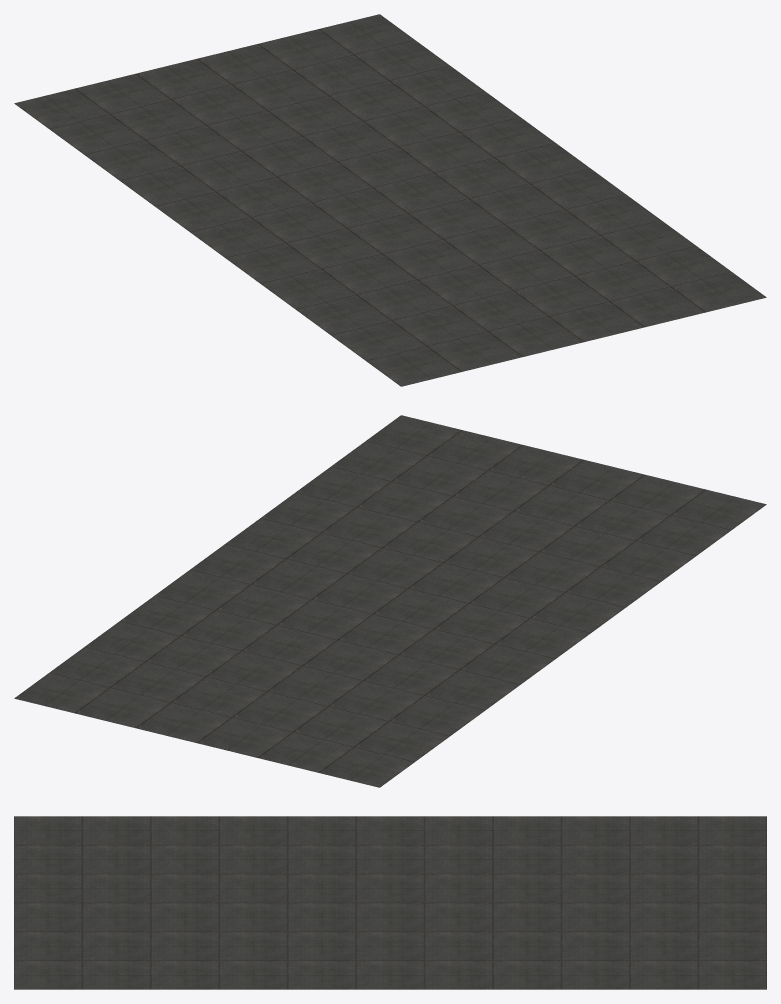
File: Floor.fbx
3 renders of one model, top to bottom at view 1: azimuth 30°, elevation 25°; view 2: azimuth 150°, elevation 25°; view 3: azimuth 270°, elevation 25°, orthographic. The views are drawn at different scales.
Parts seen in each view (by area): view 1: Plane.044, Plane.054, Plane, Plane.014, Plane.018, Plane.020, Plane.029, Plane.039, Plane.057, Plane.059, Plane.066, Plane.069 (+54 smaller); view 2: Plane.046, Plane.052, Plane.008, Plane.015, Plane.026, Plane.029, Plane.033, Plane.035, Plane.063, Plane.064, Plane.069, Plane.072 (+54 smaller); view 3: Plane.028, Plane.030, Plane.036, Plane.038, Plane.044, Plane.046, Plane.052, Plane.054, Plane.060, Plane.062, Plane.068, Plane.070 (+54 smaller).
Part boxes in pixels (<box>): Plane.044: <box>347,213,442,253</box>; Plane.054: <box>338,147,433,187</box>; Plane: <box>366,346,461,386</box>; Plane.014: <box>319,14,414,54</box>; Plane.018: <box>110,99,205,139</box>; Plane.020: <box>85,140,180,180</box>; Plane.029: <box>190,217,285,257</box>; Plane.039: <box>181,151,276,191</box>; Plane.057: <box>575,261,670,301</box>; Plane.059: <box>504,209,599,249</box>; Plane.066: <box>600,220,695,260</box>; Plane.069: <box>495,143,590,183</box>; Plane.046: <box>338,614,433,654</box>; Plane.052: <box>347,548,442,588</box>; Plane.008: <box>319,747,414,787</box>; Plane.015: <box>110,662,205,702</box>; Plane.026: <box>600,541,695,581</box>; Plane.029: <box>495,618,590,658</box>; Plane.033: <box>575,500,670,540</box>; Plane.035: <box>504,552,599,592</box>; Plane.063: <box>181,610,276,650</box>; Plane.064: <box>366,415,461,455</box>; Plane.069: <box>190,544,285,584</box>; Plane.072: <box>85,621,180,661</box>; Plane.028: <box>287,816,356,844</box>; Plane.030: <box>424,816,493,844</box>; Plane.036: <box>287,845,356,873</box>; Plane.038: <box>424,845,493,873</box>; Plane.044: <box>287,874,356,902</box>; Plane.046: <box>424,874,493,902</box>; Plane.052: <box>287,903,356,931</box>; Plane.054: <box>424,903,493,931</box>; Plane.060: <box>287,932,356,960</box>; Plane.062: <box>424,932,493,960</box>; Plane.068: <box>287,961,356,989</box>; Plane.070: <box>424,961,493,989</box>.
Size of the model in its own units: 1200 by 0.000358 by 2200.
1 material, 1 textured.
